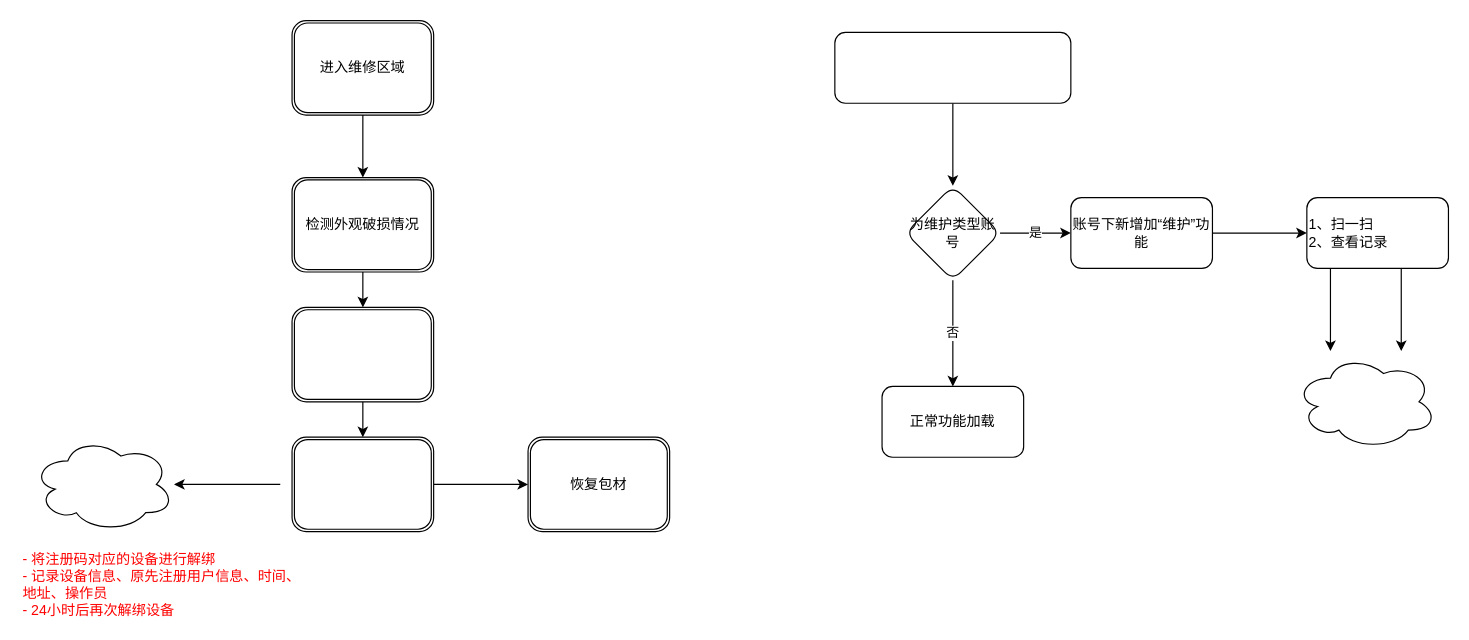
The diagram is 1469 pixels wide and 640 high, and some of its shapes have lost their labels. The centre of each missing label's shape, as x and y in pixels:
youkey app 进入维护模块，扫一扫登记设备； 设备检测音视频是否正常: [362,484]
上电接线做装备自检 （含版本升级）: [362,354]
云端分配一个维修账号：xxxx@google.com,账号类型：维护: [952,67]
